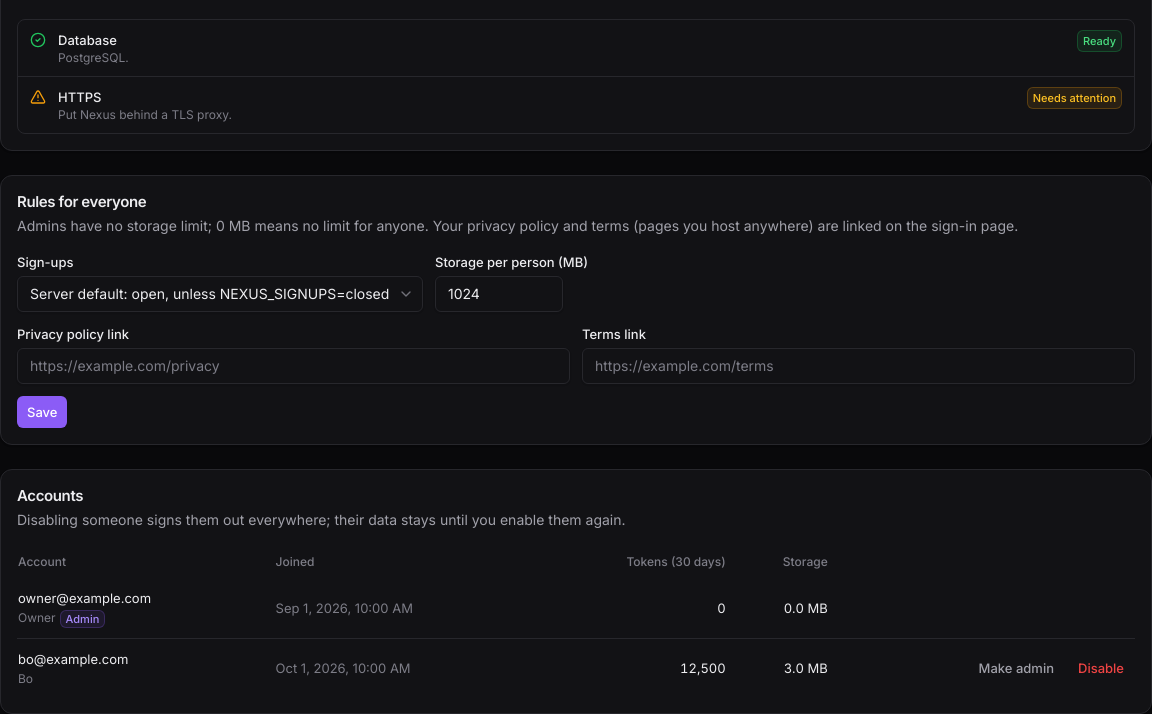
Test: accounts show their usage, and someone can be disabled (never yourself)
(page scrolled)
Expected: the text "3.0 MB" is shown, [784,660,828,676]
Expected: the text "12,500" is shown, [680,660,726,676]
Step 1. Click the button named "Disable bo@example.com" → (1101, 668), box [1068,652,1134,684]
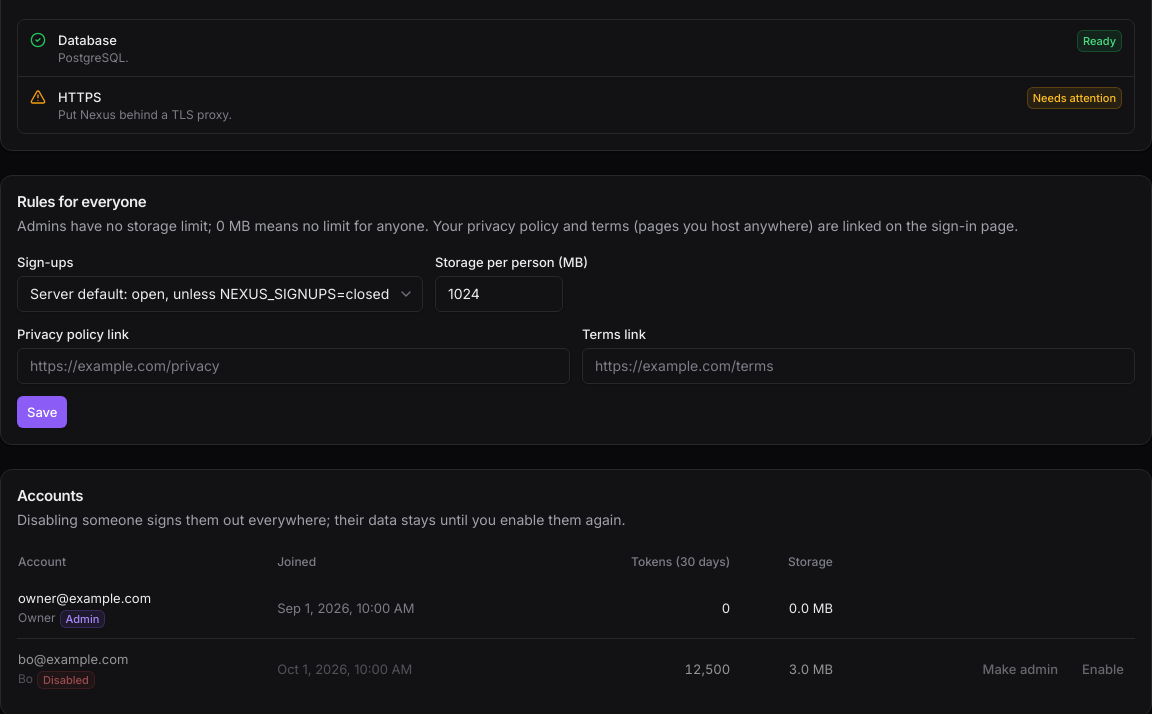
Expected: the text "Disabled" is shown, [43,673,89,687]
